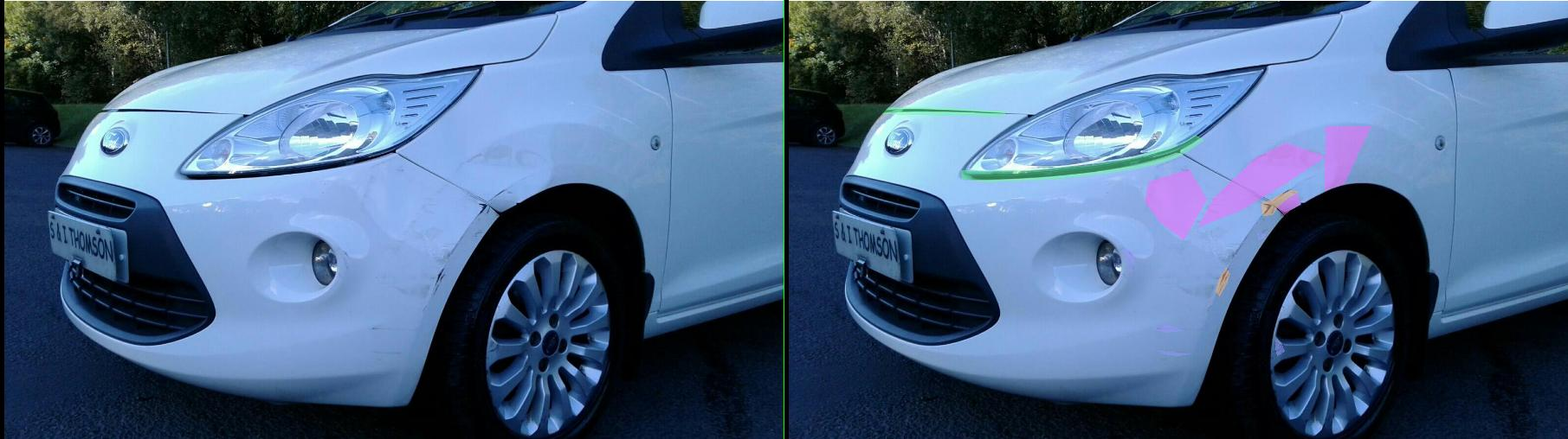Broken part: (353, 135, 839, 181), (196, 107, 445, 116)
Dent: (828, 143, 1081, 226), (721, 169, 844, 239), (1081, 126, 1173, 190), (986, 193, 1031, 214)
Paint chip: (955, 190, 1027, 215), (863, 268, 891, 296)
Scratch: (674, 248, 700, 275), (736, 324, 797, 332), (745, 351, 811, 355), (982, 344, 1000, 355), (946, 232, 965, 239), (982, 340, 993, 348)
